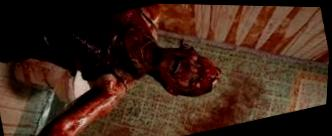Fire: (40, 4, 221, 136), (188, 71, 272, 133), (14, 58, 75, 103)
